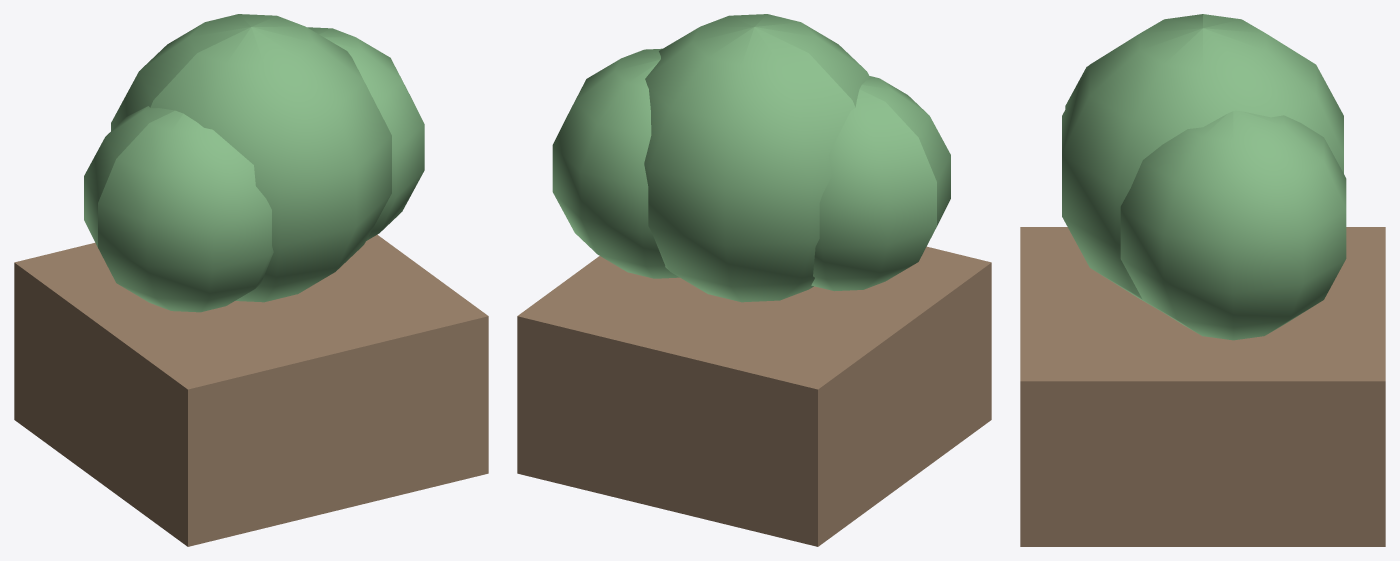
Rendered from planter.glb.
The picture shows the model from 3 angles, left to right: view 1: azimuth 30°, elevation 25°; view 2: azimuth 150°, elevation 25°; view 3: azimuth 270°, elevation 25°; orthographic projection. The views are drawn at different scales.
Visible parts, largest first — view 1: walnut, c3e7d3f_1_0; view 2: walnut, c3e7d3f_1_0; view 3: walnut, c3e7d3f_1_0.
Part boxes in pixels (<box>): walnut: <box>14,234,488,546</box>; c3e7d3f_1_0: <box>84,14,424,312</box>; walnut: <box>517,246,991,546</box>; c3e7d3f_1_0: <box>552,14,950,302</box>; walnut: <box>1020,227,1385,546</box>; c3e7d3f_1_0: <box>1062,14,1346,340</box>.
Bounding box in the file's own units: 1.36 × 1.6 × 1.2.
